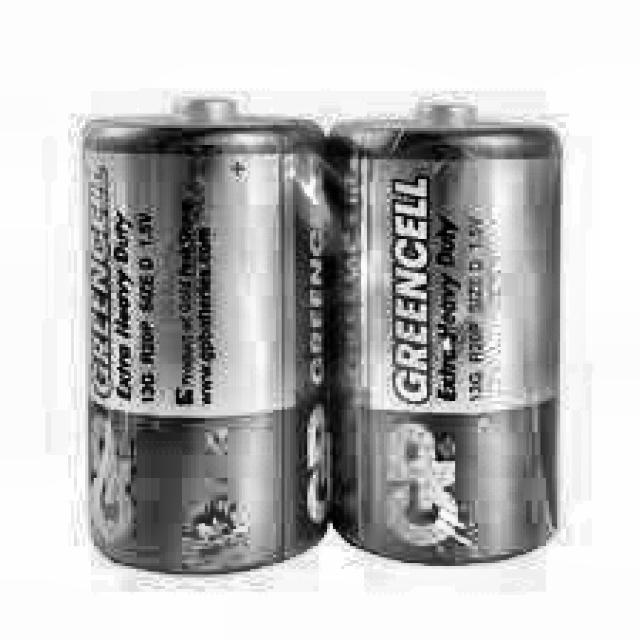Battery: (83, 96, 327, 574), (328, 104, 562, 562)
